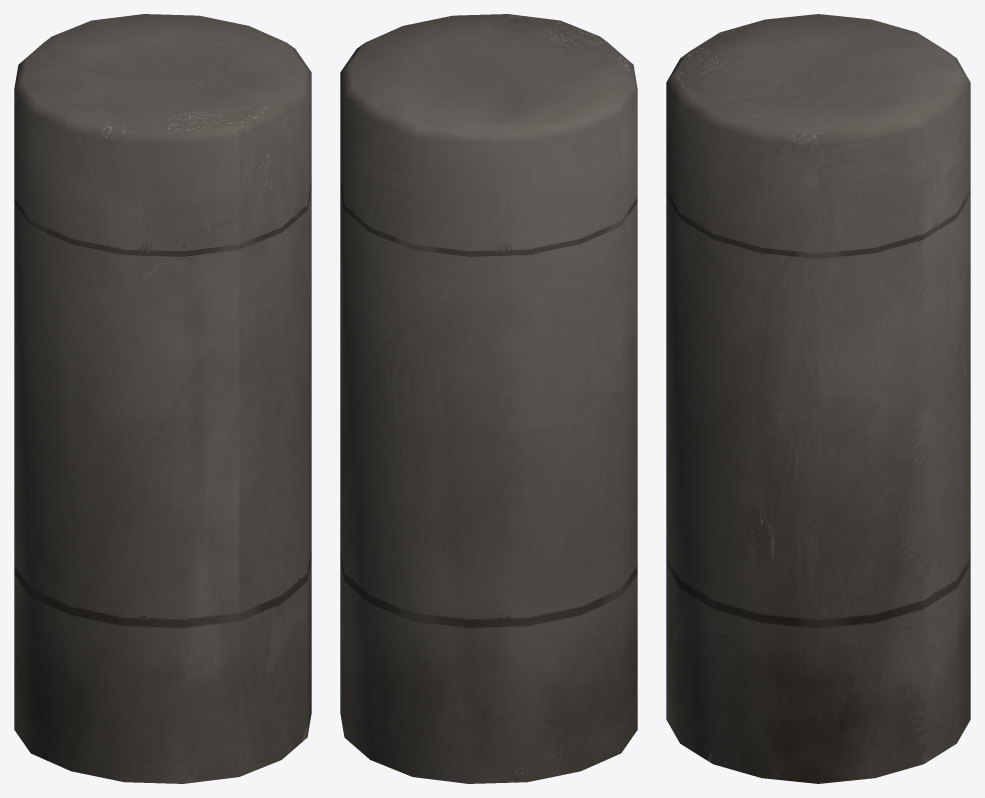
File: cement-bolard.glb
The picture shows the model from 3 angles, left to right: view 1: azimuth 30°, elevation 25°; view 2: azimuth 150°, elevation 25°; view 3: azimuth 270°, elevation 25°; orthographic projection.
Parts seen in each view (by area): view 1: Cement Bolard; view 2: Cement Bolard; view 3: Cement Bolard.
Part boxes in pixels (x1=…): Cement Bolard: x1=14, y1=14, x2=311, y2=783; Cement Bolard: x1=340, y1=14, x2=637, y2=783; Cement Bolard: x1=666, y1=14, x2=970, y2=783.
Bounding box in the file's own units: 0.3289 × 0.7702 × 0.3289.
Materials: 1 (1 with a texture image).
